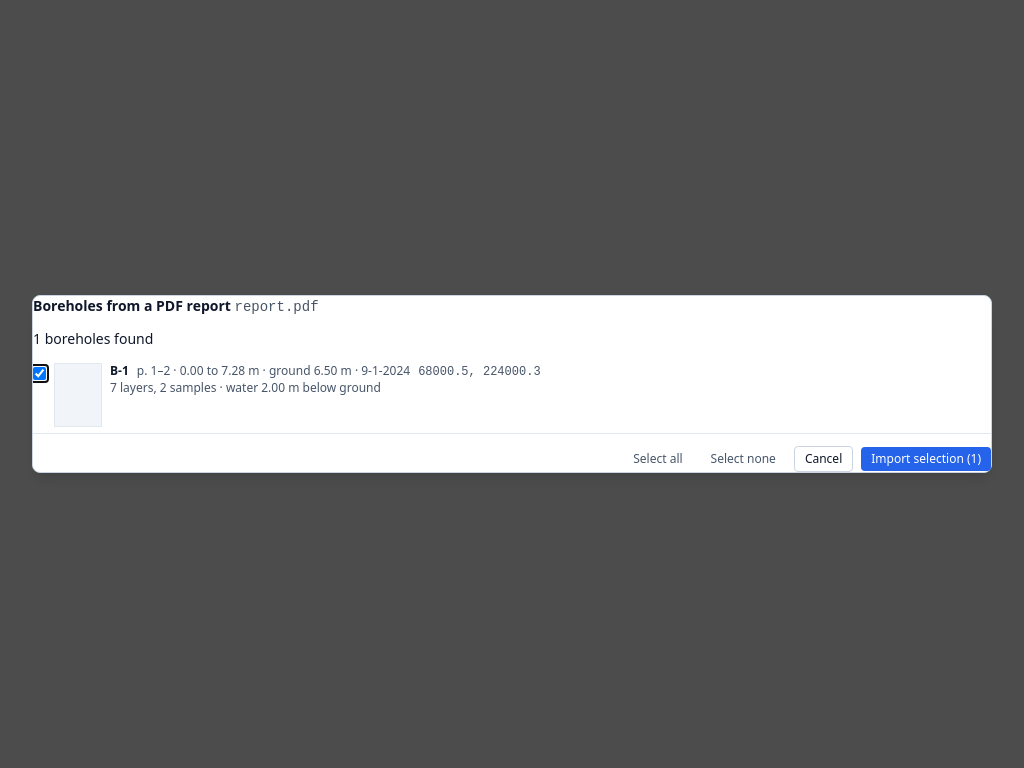
Test: BoreholePdfImportDialog › D4: Cancel on the consent posts nothing more and reports nothing
Click the button with test id "borehole-pdf-import" at (926, 459), box [861,447,991,471]
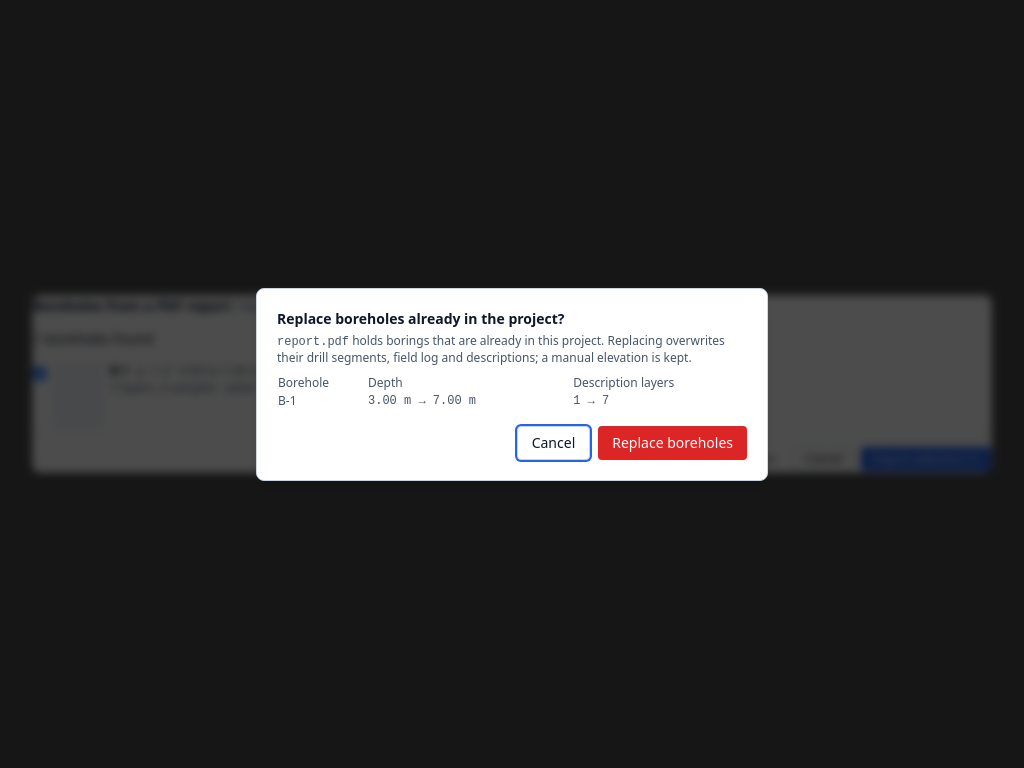
Click the button "Cancel" at (554, 442), box [517,426,590,460]
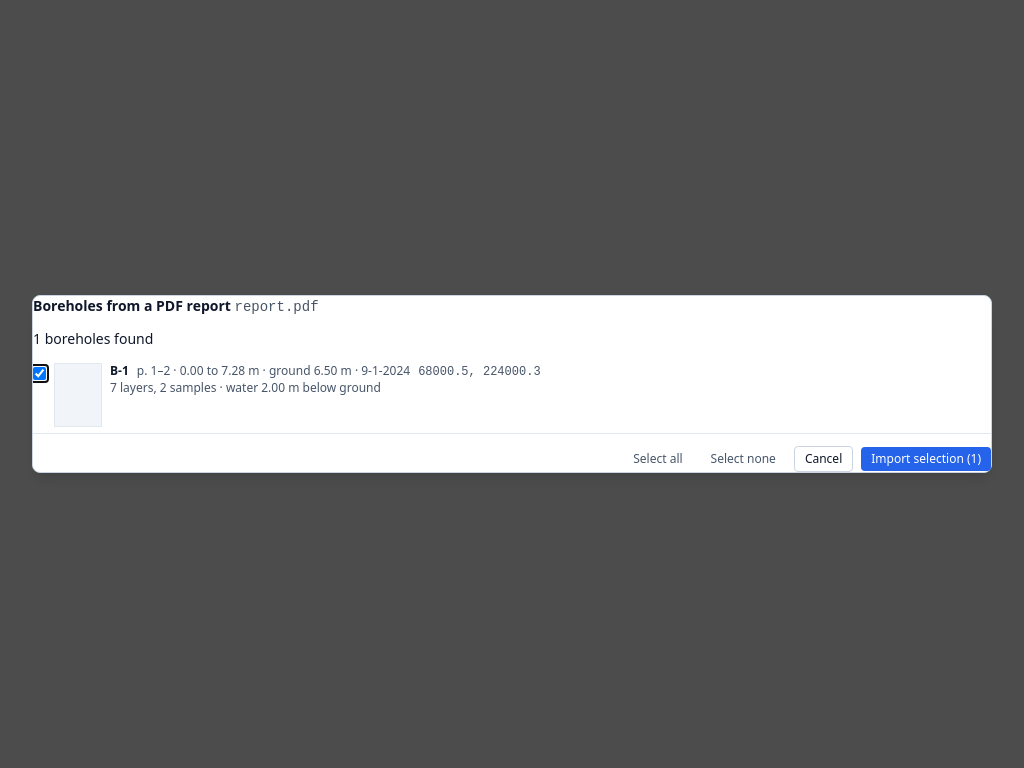
Check: the dialog with test id "borehole-refresh-confirm-dialog" is gone
